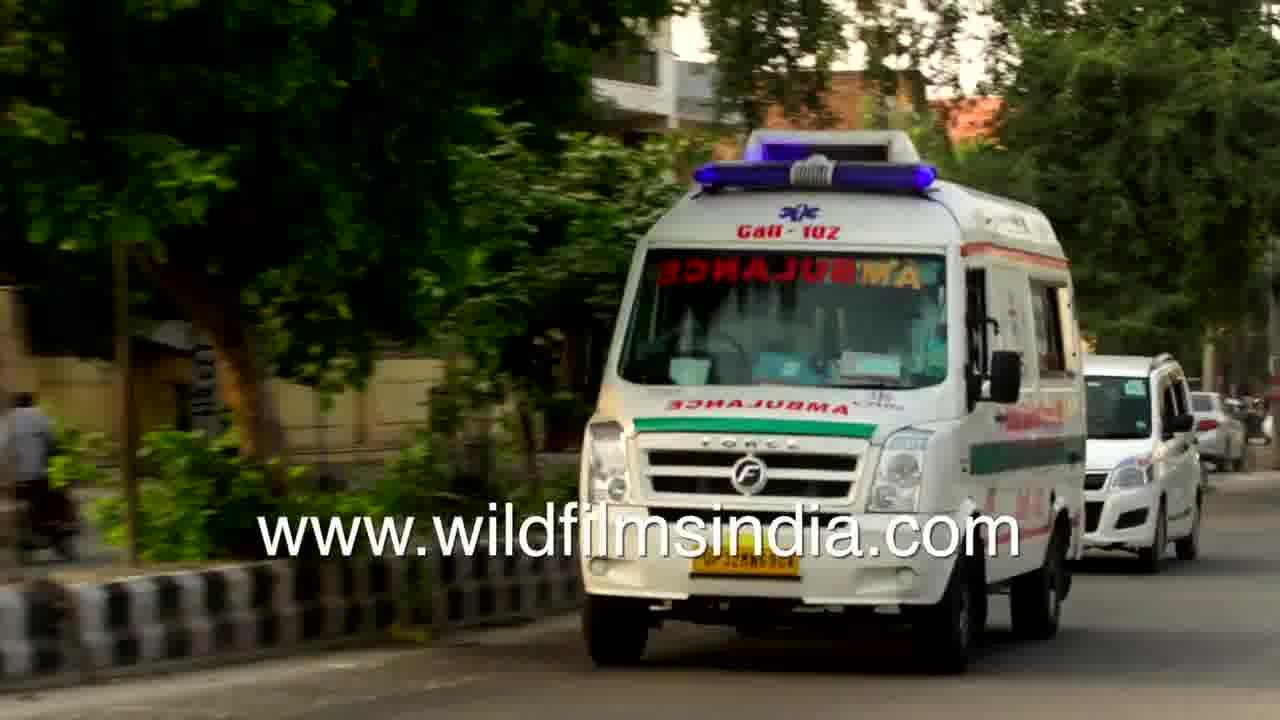AMBULANCE: (539, 123, 1075, 492)
